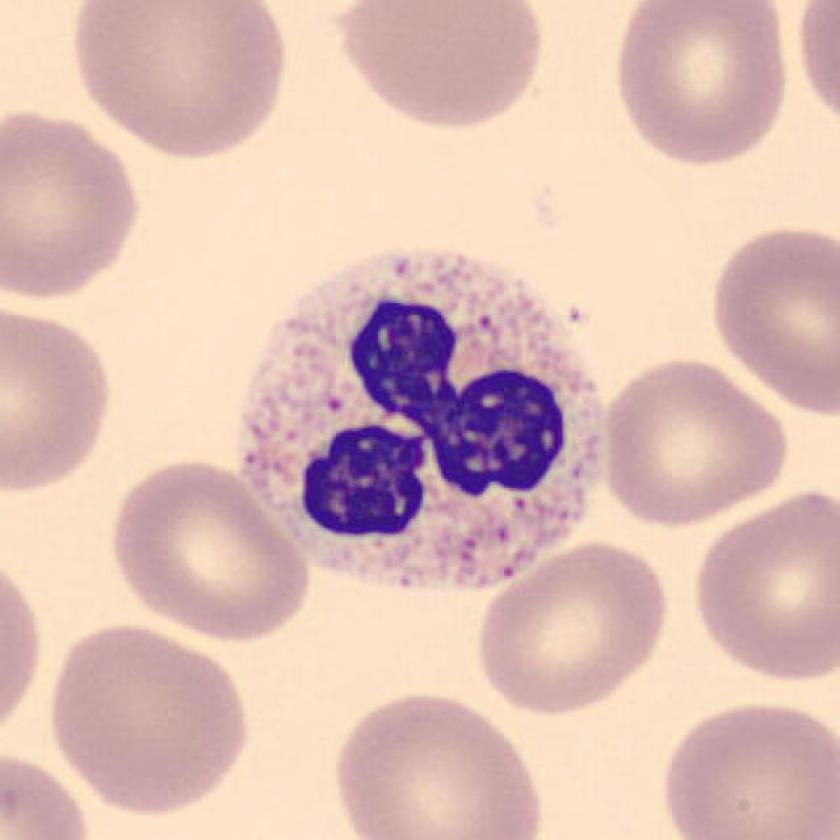neutrophil: (239, 250, 608, 588)
